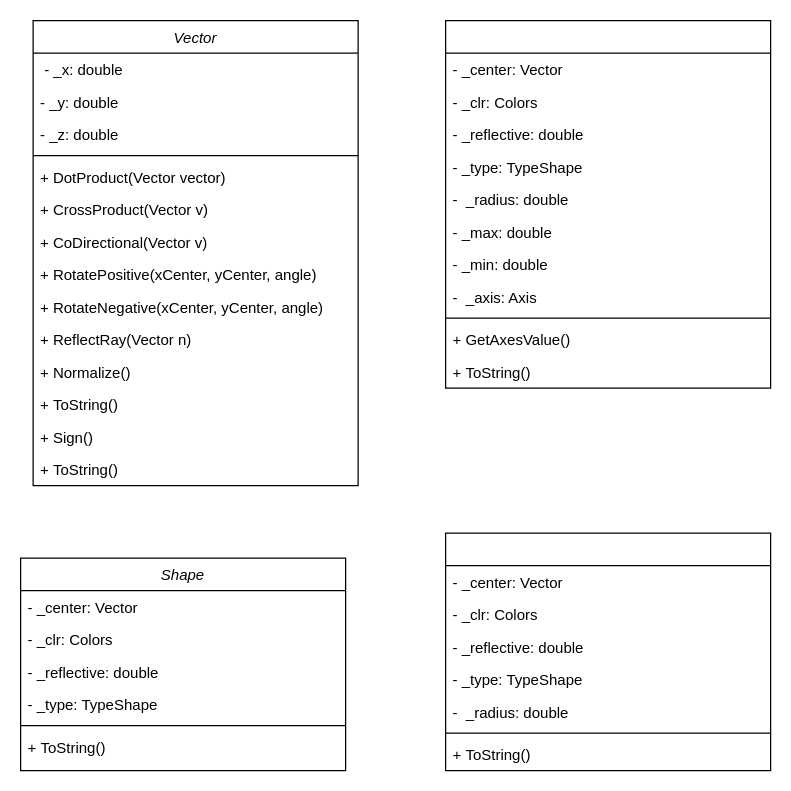
This 791x791 diagram has some shape labels left out. Each missing label, with the box of its shape:
Cylinder: (444, 19, 771, 388)
Sphere: (444, 532, 771, 771)
